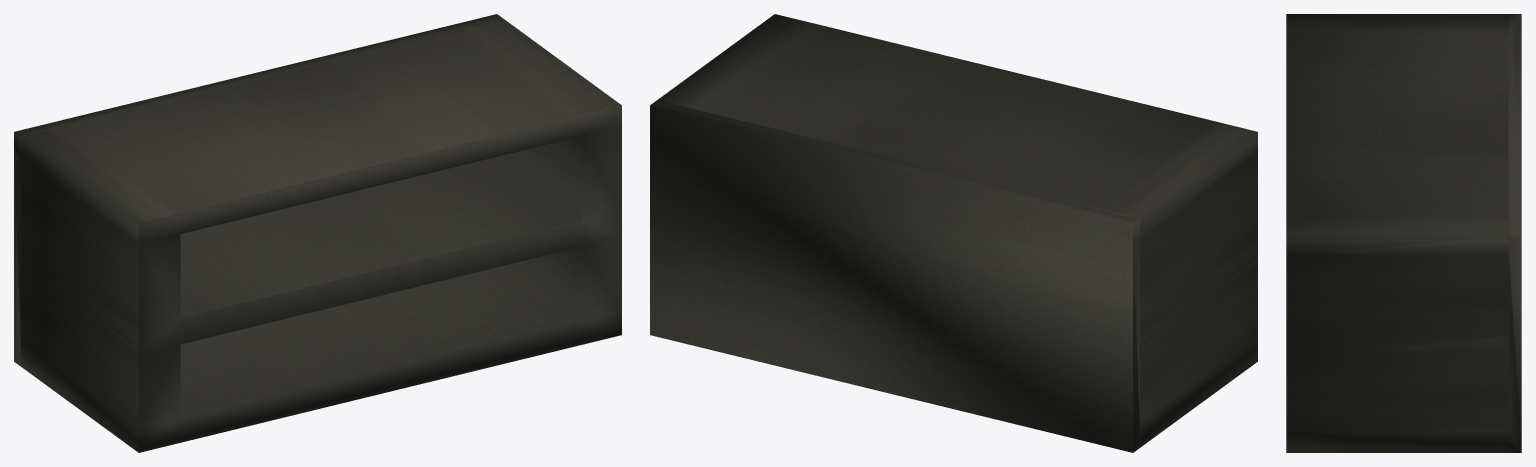
Rendered from tv_standtextured.fbx.
The picture shows the model from 3 angles, left to right: view 1: azimuth 30°, elevation 25°; view 2: azimuth 150°, elevation 25°; view 3: azimuth 270°, elevation 25°; orthographic projection. The views are drawn at different scales.
Visible parts, largest first — view 1: Cube; view 2: Cube; view 3: Cube.
Boxes of the visible parts, left/top/right/bottom form: Cube: left=14, top=14, right=621, bottom=452; Cube: left=650, top=14, right=1257, bottom=452; Cube: left=1286, top=14, right=1521, bottom=452.
Size of the model in its own units: 935 by 425 by 419.
Materials: 1 (1 with a texture image).
